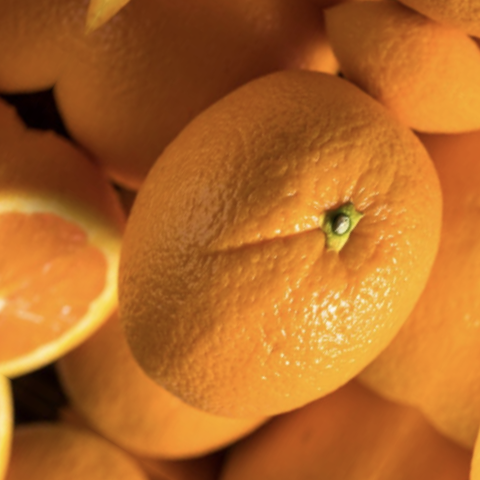orange: (30, 0, 480, 480)
